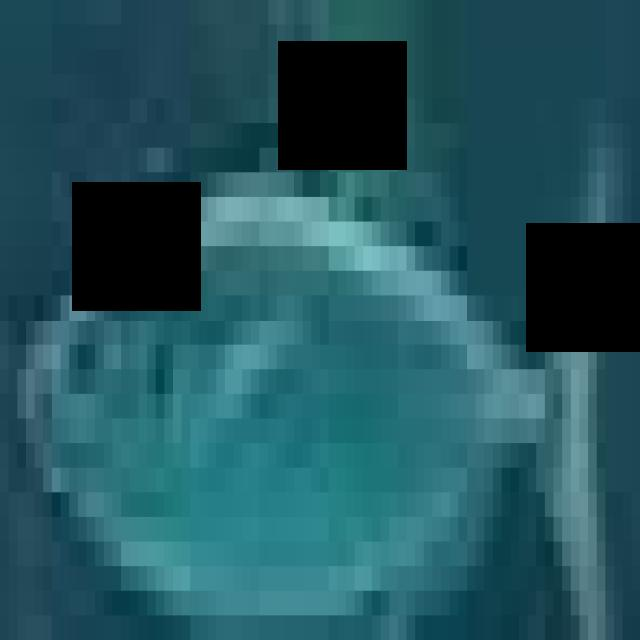fish: (8, 24, 640, 640)
